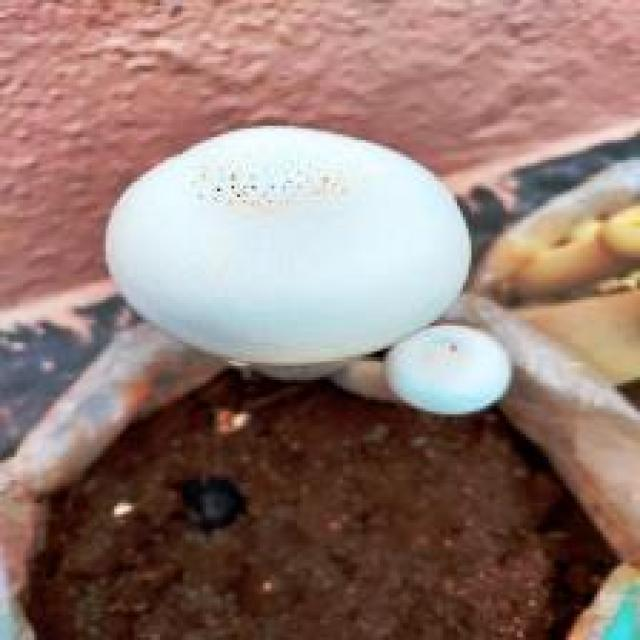death-cap: (100, 120, 474, 377)
